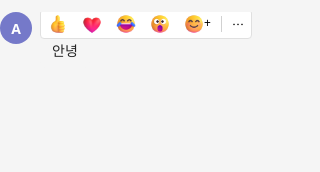
뮤테이션 실패 피드백 › 반응 실패 시 버블에 실패 문구를 보여준다
What coordinates should you click on to do the following:
click the button named "👍"
I would click on:
 (58, 24)
Its box is top-left (42, 11), bottom-right (74, 37).
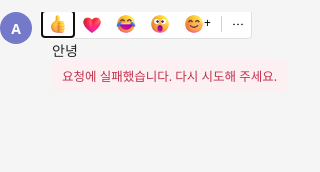
Now the text "요청에 실패했습니다. 다시 시도해 주세요." is shown, box top-left (62, 66), bottom-right (277, 85)
